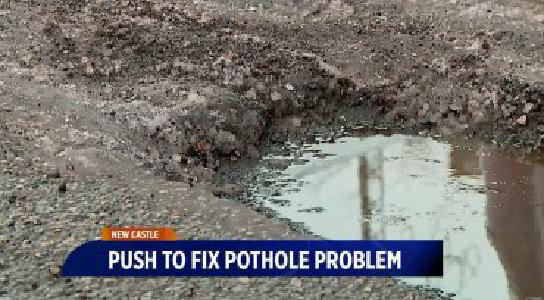pothole: (136, 59, 544, 300)
